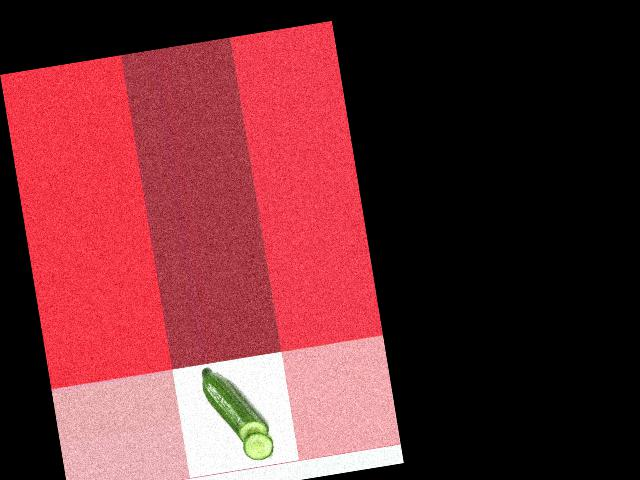cucumber: (200, 359, 270, 448)
